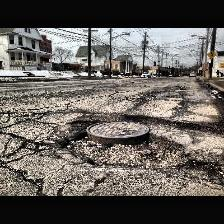pothole: (59, 119, 191, 171), (122, 114, 166, 126)
